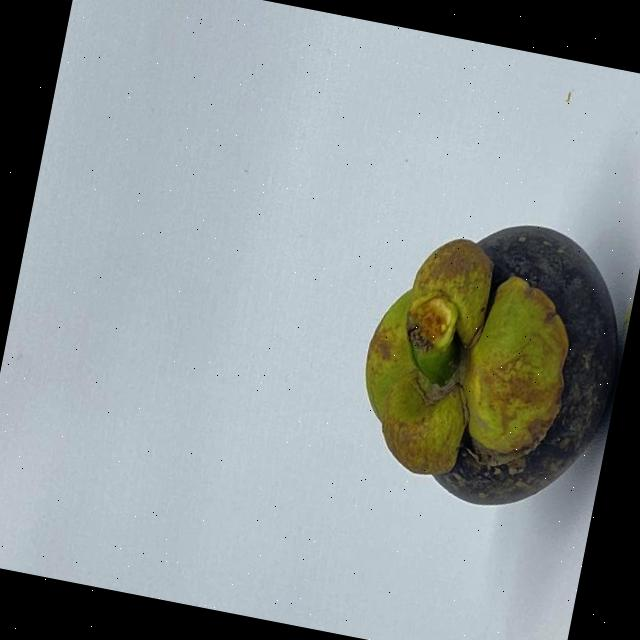mangosteen: (320, 188, 640, 532)
